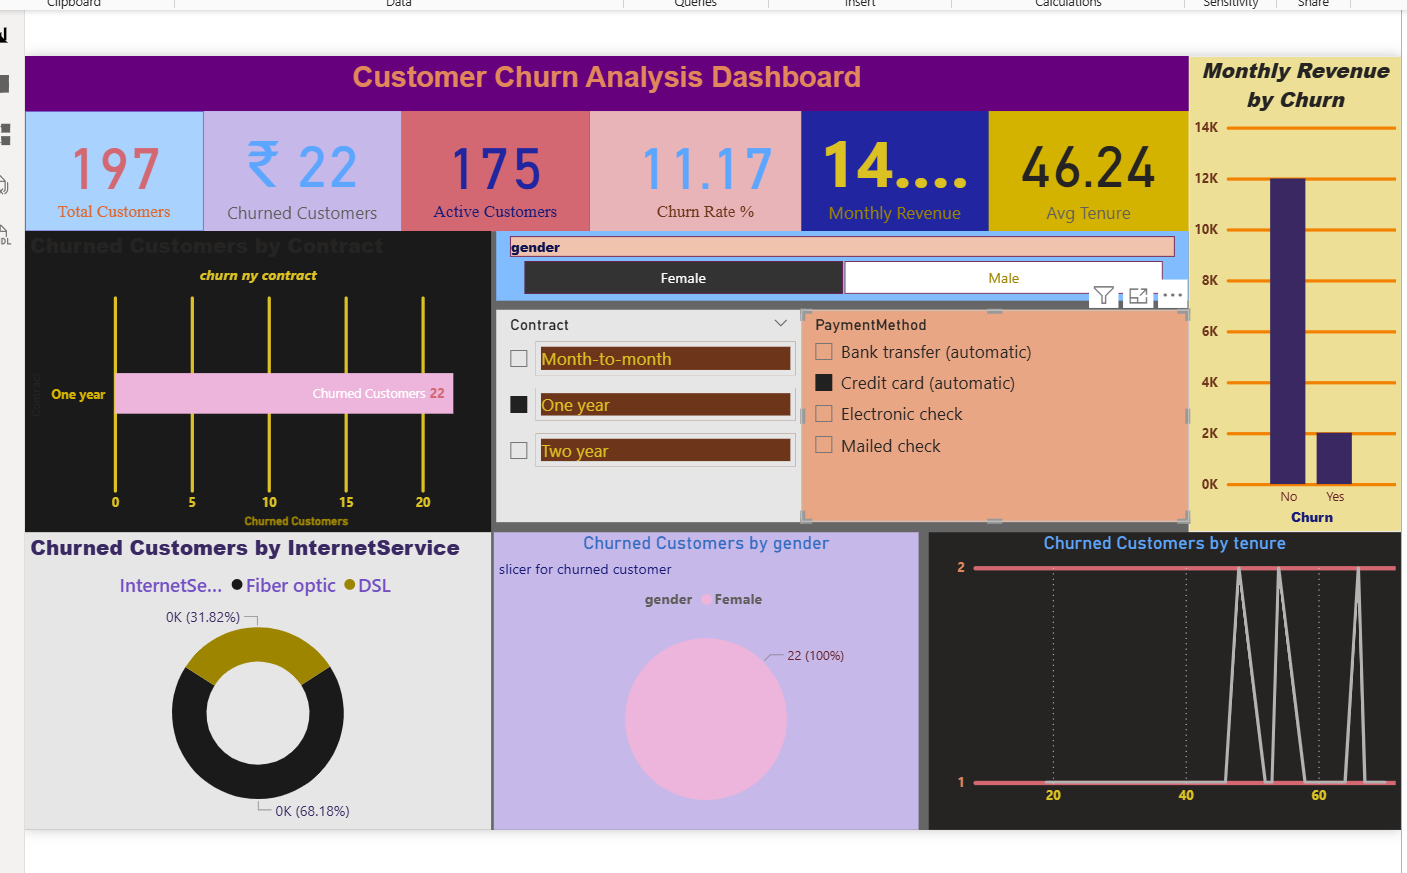

What the dashboard file says about the page in this screenshot:
{"tool":"powerbi","page":{"name":"dashboard","canvas":[1280,720],"ordinal":0},"visuals":[{"type":"card","fields":{"Values":["WA_Fn-UseC_-Telco-Customer-Churn.Total Customers"]},"box":[0,51.2,166.3,111.6],"z":0},{"type":"card","fields":{"Values":["WA_Fn-UseC_-Telco-Customer-Churn.Churned Customers"]},"box":[166.3,51.2,183.7,111.6],"z":1000},{"type":"card","fields":{"Values":["WA_Fn-UseC_-Telco-Customer-Churn.Active Customers"]},"box":[350,51.2,175.6,111.6],"z":2000},{"type":"card","fields":{"Values":["WA_Fn-UseC_-Telco-Customer-Churn.Churn Rate %"]},"box":[525.6,51.2,215.1,111.6],"z":3000},{"type":"card","fields":{"Values":["WA_Fn-UseC_-Telco-Customer-Churn.Monthly Revenue"]},"box":[722.1,51.2,174.4,111.6],"z":4000},{"type":"card","fields":{"Values":["WA_Fn-UseC_-Telco-Customer-Churn.Avg Tenure"]},"box":[896.5,51.2,186,111.6],"z":5000},{"type":"clusteredBarChart","fields":{"Y":["WA_Fn-UseC_-Telco-Customer-Churn.Churned Customers"],"Category":["WA_Fn-UseC_-Telco-Customer-Churn.Contract"]},"box":[0,162.8,433.7,280.2],"z":6000},{"type":"donutChart","fields":{"Category":["WA_Fn-UseC_-Telco-Customer-Churn.InternetService"],"Y":["WA_Fn-UseC_-Telco-Customer-Churn.Churned Customers"]},"box":[0,443,433.7,276.7],"z":7000},{"type":"pieChart","title":"Churned Customers by gender","fields":{"Category":["WA_Fn-UseC_-Telco-Customer-Churn.gender"],"Y":["WA_Fn-UseC_-Telco-Customer-Churn.Churned Customers"]},"box":[436,443,395.3,276.7],"z":8000},{"type":"clusteredColumnChart","fields":{"Category":["WA_Fn-UseC_-Telco-Customer-Churn.Churn"],"Y":["WA_Fn-UseC_-Telco-Customer-Churn.Monthly Revenue"]},"box":[1082.6,0,197.7,443],"z":9000},{"type":"lineChart","fields":{"Category":["WA_Fn-UseC_-Telco-Customer-Churn.tenure"],"Y":["WA_Fn-UseC_-Telco-Customer-Churn.Churned Customers"]},"box":[840.7,443,439.5,276.7],"z":10000},{"type":"textbox","box":[0,0,1082.6,51.2],"z":11000},{"type":"slicer","fields":{"Values":["WA_Fn-UseC_-Telco-Customer-Churn.gender"]},"box":[438.4,162.8,644.2,65.1],"z":12000},{"type":"slicer","fields":{"Values":["WA_Fn-UseC_-Telco-Customer-Churn.Contract"]},"box":[438.4,236,283.7,197.7],"z":13000},{"type":"slicer","fields":{"Values":["WA_Fn-UseC_-Telco-Customer-Churn.PaymentMethod"]},"box":[722.1,236,360.5,197.7],"z":14000}]}

Visuals, with their boxes in screenshot pixels (x1, y1, x2, y2):
card - WA_Fn-UseC_-Telco-Customer-Churn.Total Customers: 15,107,195,228
card - WA_Fn-UseC_-Telco-Customer-Churn.Churned Customers: 195,107,394,228
card - WA_Fn-UseC_-Telco-Customer-Churn.Active Customers: 394,107,584,228
card - WA_Fn-UseC_-Telco-Customer-Churn.Churn Rate %: 584,107,818,228
card - WA_Fn-UseC_-Telco-Customer-Churn.Monthly Revenue: 797,107,986,228
card - WA_Fn-UseC_-Telco-Customer-Churn.Avg Tenure: 986,107,1188,228
clusteredBarChart - WA_Fn-UseC_-Telco-Customer-Churn.Churned Customers x WA_Fn-UseC_-Telco-Customer-Churn.Contract: 15,228,485,532
donutChart - WA_Fn-UseC_-Telco-Customer-Churn.InternetService x WA_Fn-UseC_-Telco-Customer-Churn.Churned Customers: 15,532,485,831
"Churned Customers by gender" pieChart: 487,532,916,831
clusteredColumnChart - WA_Fn-UseC_-Telco-Customer-Churn.Churn x WA_Fn-UseC_-Telco-Customer-Churn.Monthly Revenue: 1188,51,1403,532
lineChart - WA_Fn-UseC_-Telco-Customer-Churn.tenure x WA_Fn-UseC_-Telco-Customer-Churn.Churned Customers: 926,532,1402,831
textbox: 15,51,1188,107
slicer - WA_Fn-UseC_-Telco-Customer-Churn.gender: 490,228,1188,298
slicer - WA_Fn-UseC_-Telco-Customer-Churn.Contract: 490,307,797,521
slicer - WA_Fn-UseC_-Telco-Customer-Churn.PaymentMethod: 797,307,1188,521
